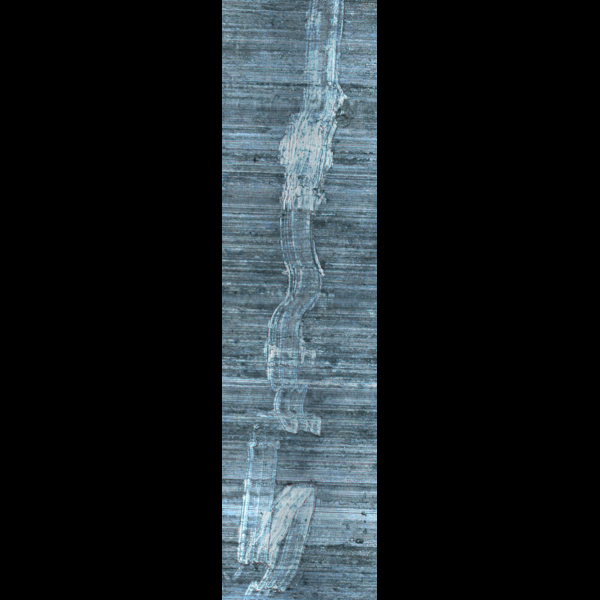d: (231, 0, 355, 596)
